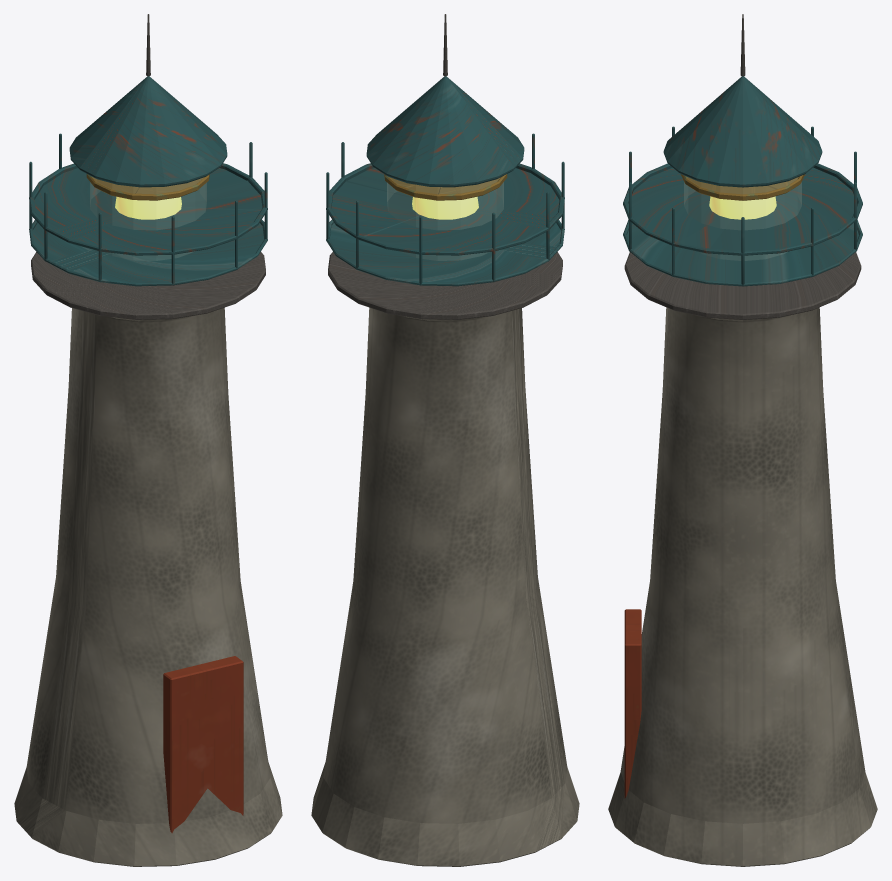
Rendered from WK_HERO_BEACON_A_01.glb.
3 renders of one model, left to right at view 1: azimuth 30°, elevation 25°; view 2: azimuth 150°, elevation 25°; view 3: azimuth 270°, elevation 25°, orthographic.
Visible parts, largest first — view 1: WK_HERO_BEACON_A_01; view 2: WK_HERO_BEACON_A_01; view 3: WK_HERO_BEACON_A_01.
Boxes of the visible parts, x1,y1,x2,y2 form: WK_HERO_BEACON_A_01: (14, 14, 282, 866); WK_HERO_BEACON_A_01: (311, 14, 579, 866); WK_HERO_BEACON_A_01: (608, 14, 877, 866).
Size of the model in its own units: 3.19 by 10.4 by 3.19.
7 materials, 5 textured.
